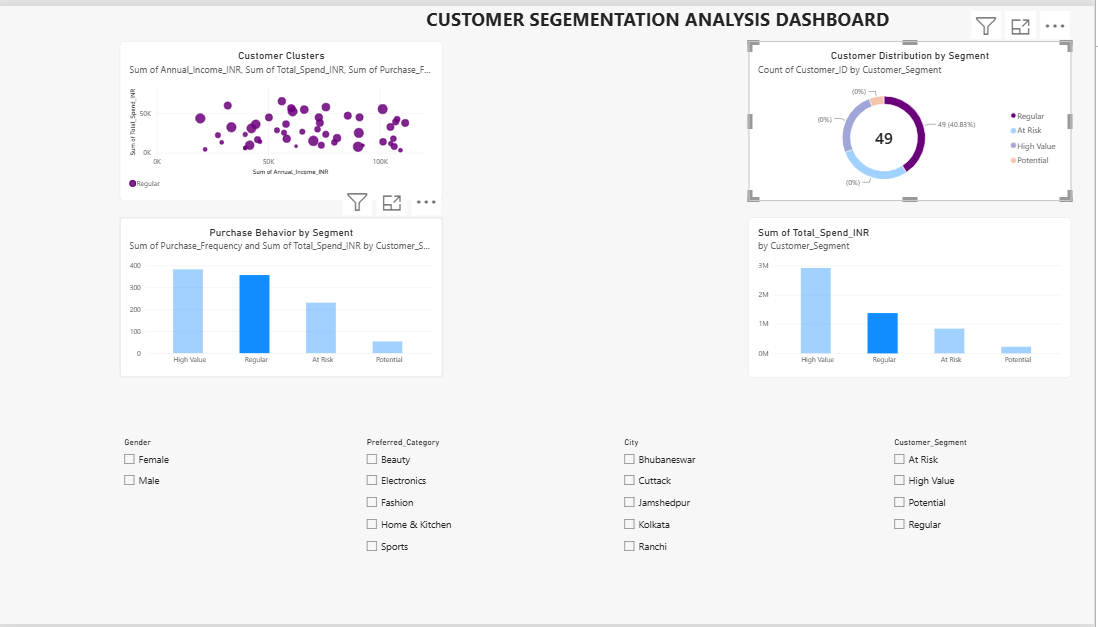

What the dashboard file says about the page in this screenshot:
{"tool":"powerbi","page":{"name":"Page 1","canvas":[1920,1080],"ordinal":0},"visuals":[{"type":"scatterChart","title":"Customer Clusters","fields":{"Category":["Sheet1.Customer_ID"],"Series":["Sheet1.Customer_Segment"],"Size":["Sum(Sheet1.Purchase_Frequency)"],"X":["Sum(Sheet1.Annual_Income_INR)"],"Y":["Sum(Sheet1.Total_Spend_INR)"]},"box":[216.3,61.2,563.7,279.7],"z":0},{"type":"donutChart","title":"Customer Distribution by Segment","fields":{"Category":["Sheet1.Customer_Segment"],"Y":["CountNonNull(Sheet1.Customer_ID)"]},"box":[1315.3,61.2,563.7,279.7],"z":1},{"type":"lineClusteredColumnComboChart","title":"Purchase Behavior by Segment","fields":{"Category":["Sheet1.Customer_Segment"],"Y":["Sum(Sheet1.Purchase_Frequency)"]},"box":[216.3,369.2,563.7,279.7],"z":2},{"type":"slicer","fields":{"Values":["Sheet1.Customer_Segment"]},"box":[1562.1,753.8,358.3,260],"z":3},{"type":"slicer","fields":{"Values":["Sheet1.Gender"]},"box":[216.3,753.8,373.6,279.7],"z":4},{"type":"slicer","fields":{"Values":["Sheet1.Preferred_Category"]},"box":[640.1,753.8,406.4,279.7],"z":5},{"type":"slicer","fields":{"Values":["Sheet1.City"]},"box":[1090.2,753.8,441.3,279.7],"z":6},{"type":"textbox","box":[300,870,280,210],"z":7},{"type":"textbox","box":[496,0,1066.2,61.2],"z":8},{"type":"textbox","box":[589.9,0,1133.9,61.2],"z":9},{"type":"lineClusteredColumnComboChart","fields":{"Category":["Sheet1.Customer_Segment"],"Y":["Sum(Sheet1.Total_Spend_INR)"]},"box":[1315.3,369.2,564,280],"z":10}]}

Visuals, with their boxes in screenshot pixels (x1, y1, x2, y2), scaled from the page's 1920x1080 canvas onto the 1098x627 screenshot:
"Customer Clusters" scatterChart: <box>124,36,446,198</box>
"Customer Distribution by Segment" donutChart: <box>752,36,1075,198</box>
"Purchase Behavior by Segment" lineClusteredColumnComboChart: <box>124,214,446,377</box>
slicer - Sheet1.Customer_Segment: <box>893,438,1097,589</box>
slicer - Sheet1.Gender: <box>124,438,337,600</box>
slicer - Sheet1.Preferred_Category: <box>366,438,598,600</box>
slicer - Sheet1.City: <box>623,438,876,600</box>
textbox: <box>172,505,332,626</box>
textbox: <box>284,0,893,36</box>
textbox: <box>337,0,986,36</box>
lineClusteredColumnComboChart - Sheet1.Customer_Segment x Sum(Sheet1.Total_Spend_INR): <box>752,214,1075,377</box>
